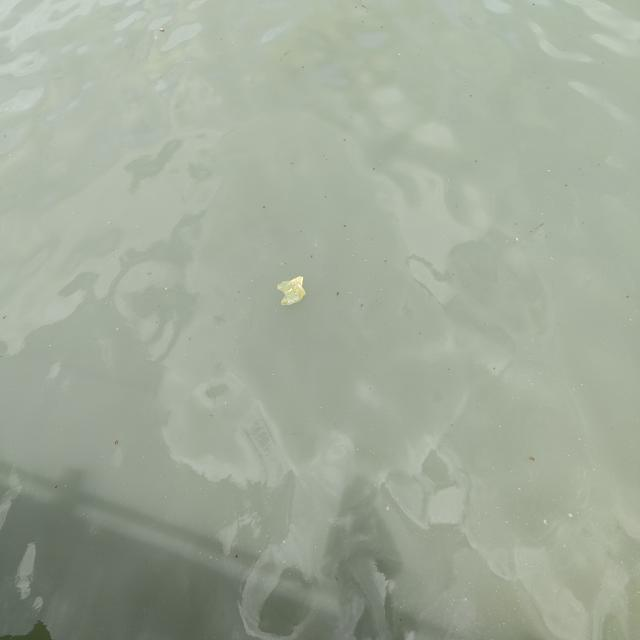Kantong Plastik: (276, 274, 311, 314)
